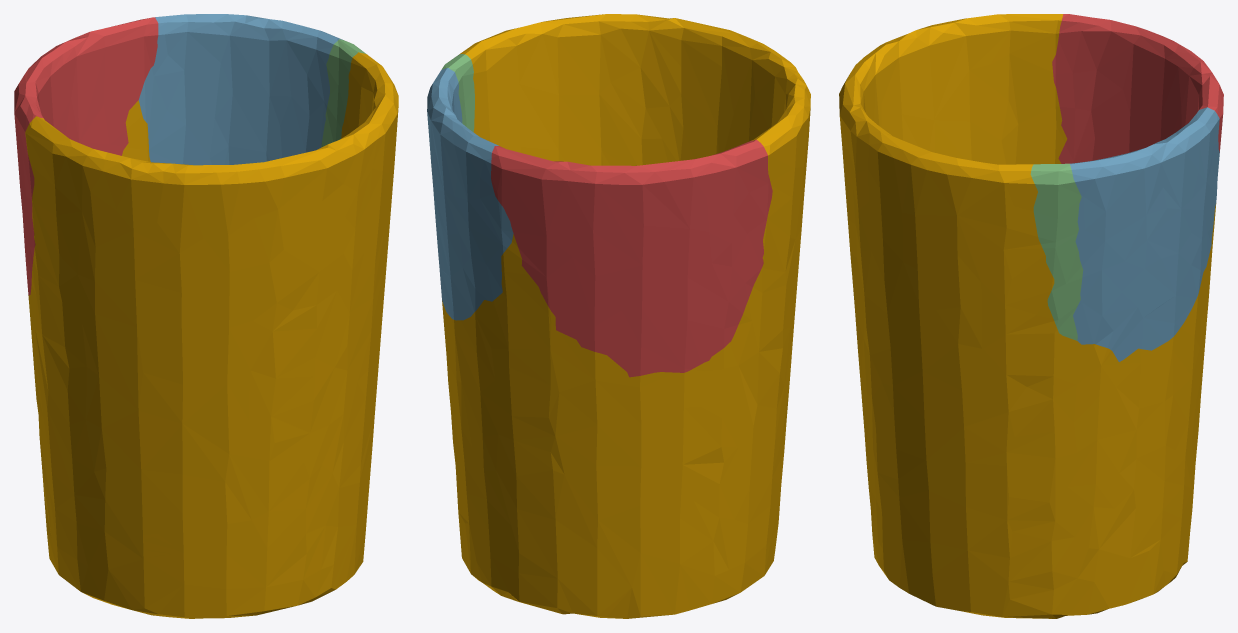
Rendered from fractured_52_4pcs.glb.
The picture shows the model from 3 angles, left to right: view 1: azimuth 30°, elevation 25°; view 2: azimuth 150°, elevation 25°; view 3: azimuth 270°, elevation 25°; orthographic projection.
Parts seen in each view (by area): view 1: piece_0.obj, piece_2.obj, piece_1.obj, piece_3.obj; view 2: piece_0.obj, piece_1.obj, piece_2.obj, piece_3.obj; view 3: piece_0.obj, piece_2.obj, piece_1.obj, piece_3.obj.
Part boxes in pixels (x1=…): piece_0.obj: x1=25, y1=52, x2=398, y2=618; piece_2.obj: x1=138, y1=14, x2=342, y2=165; piece_1.obj: x1=14, y1=17, x2=158, y2=295; piece_3.obj: x1=321, y1=39, x2=365, y2=147; piece_0.obj: x1=442, y1=14, x2=810, y2=618; piece_1.obj: x1=491, y1=139, x2=772, y2=377; piece_2.obj: x1=427, y1=68, x2=513, y2=320; piece_3.obj: x1=441, y1=54, x2=474, y2=131; piece_0.obj: x1=839, y1=14, x2=1216, y2=618; piece_2.obj: x1=1070, y1=107, x2=1219, y2=361; piece_1.obj: x1=1052, y1=14, x2=1223, y2=163; piece_3.obj: x1=1030, y1=163, x2=1083, y2=340.
Bounding box in the file's own units: 0.7449 × 1 × 0.746.
